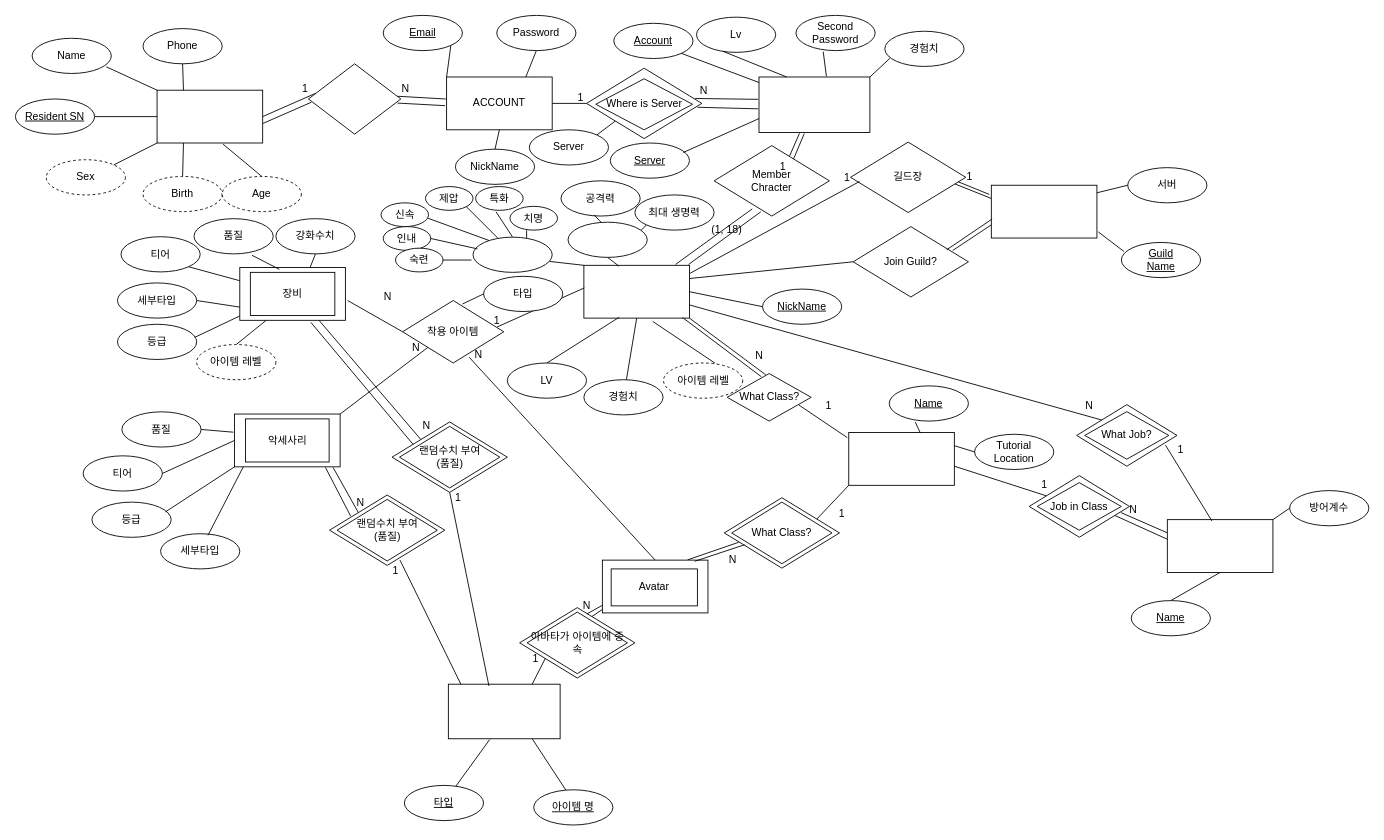
Image size: 1384x840. Some labels were removed from this diagram. Here are the shapes that lost their labels. From the top down, the centre of each, then its label:
At (x=209, y=116): "PERSONAL".
At (x=354, y=98): "LOGIN".
At (x=814, y=104): "EXPEDITION (원정대 - 서버와 계정이 같으면 공유되는 자원이 존재)".
At (x=1043, y=211): "길드".
At (x=512, y=254): "전투 특성".
At (x=607, y=239): "기본 특성".
At (x=636, y=291): "CHRACTER".
At (x=901, y=458): "CLASS".
At (x=1219, y=545): "직업".
At (x=503, y=711): "ITEM".
